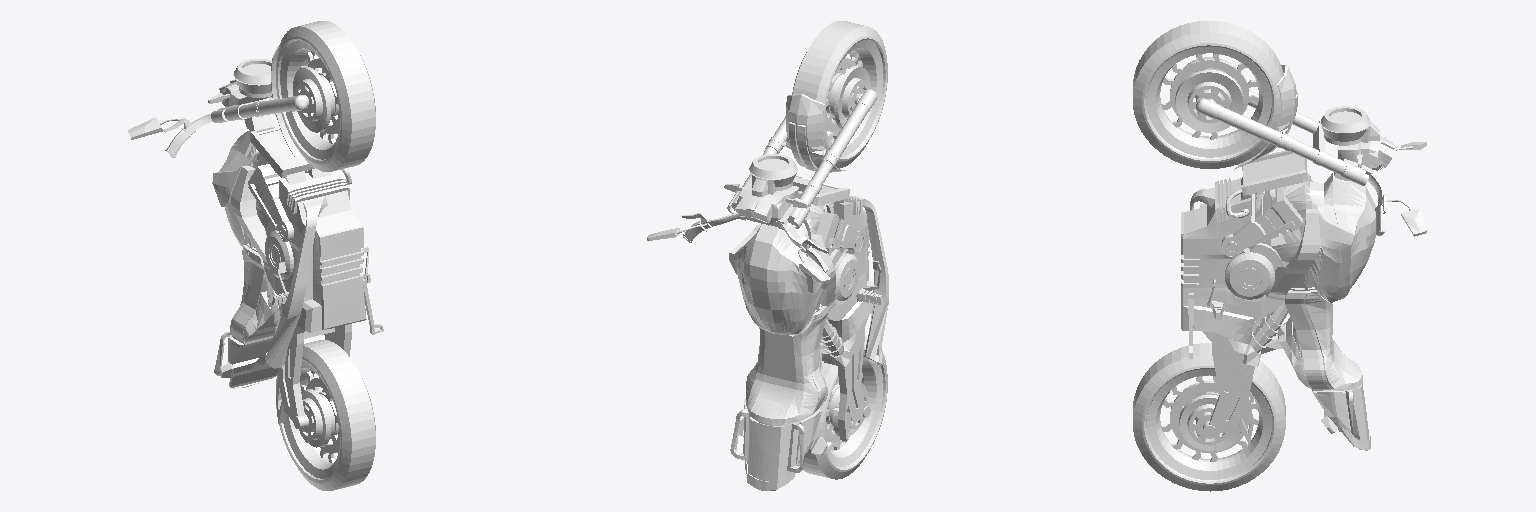
The robot description file, URDF, robot "Honda CB650R .urdf":
<?xml version="1.0" ?>
<robot name="Honda CB650R .urdf">
  <link name="baseLink">
    <inertial>
      <origin rpy="0 0 0" xyz="0 0 0"/>
       <mass value="0.0"/>
       <inertia ixx="0" ixy="0" ixz="0" iyy="0" iyz="0" izz="0"/>
    </inertial>
    <visual>
      <origin rpy="0 0 0" xyz="0 0 0"/>
      <geometry>
        <mesh filename="Honda CB650R .obj" scale="0.005 0.005 0.005"/>
      </geometry>
      <material name="white">
       <color rgba="1 1 1 1"/>
     </material>
    </visual>
    <collision>
      <origin rpy="0 0 0" xyz="0 0 0"/>
      <geometry>
        <mesh filename="Honda CB650R .obj" scale="0.005 0.005 0.005"/>
        <!-- You could also specify the collision (for the Honda CB650R ) with a "box" tag: -->
        <!-- <box size=".06 .06 .06"/> -->
      </geometry>
    </collision>
  </link>
</robot>

--- Render facts (derived) ---
3 views of the same robot in one strip: view 1: azimuth 30°, elevation 25°; view 2: azimuth 150°, elevation 25°; view 3: azimuth 270°, elevation 25° (orthographic).
Robot: Honda CB650R .urdf — 1 links, 0 joints (none); root link baseLink; default pose: every joint at zero.
Links seen in each view (by area): view 1: baseLink; view 2: baseLink; view 3: baseLink.
Link boxes in pixels (x1,y1,x2,y2): baseLink: (128,21,383,490); baseLink: (647,21,888,490); baseLink: (1133,21,1426,491).
Bounding box of the posed robot: 0.5817 × 0.7836 × 1.35 m (x, y, z).
1 mesh visuals loaded from 1 distinct referenced files (1 OBJ).
